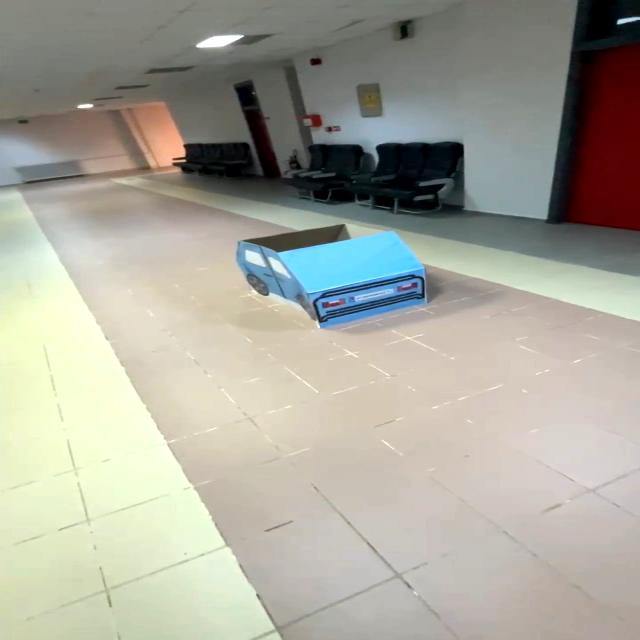blue_car: (178, 223, 459, 330)
